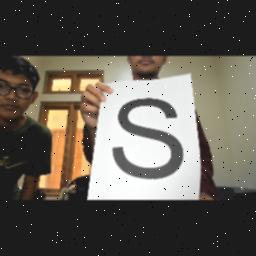s: (104, 94, 192, 190)
